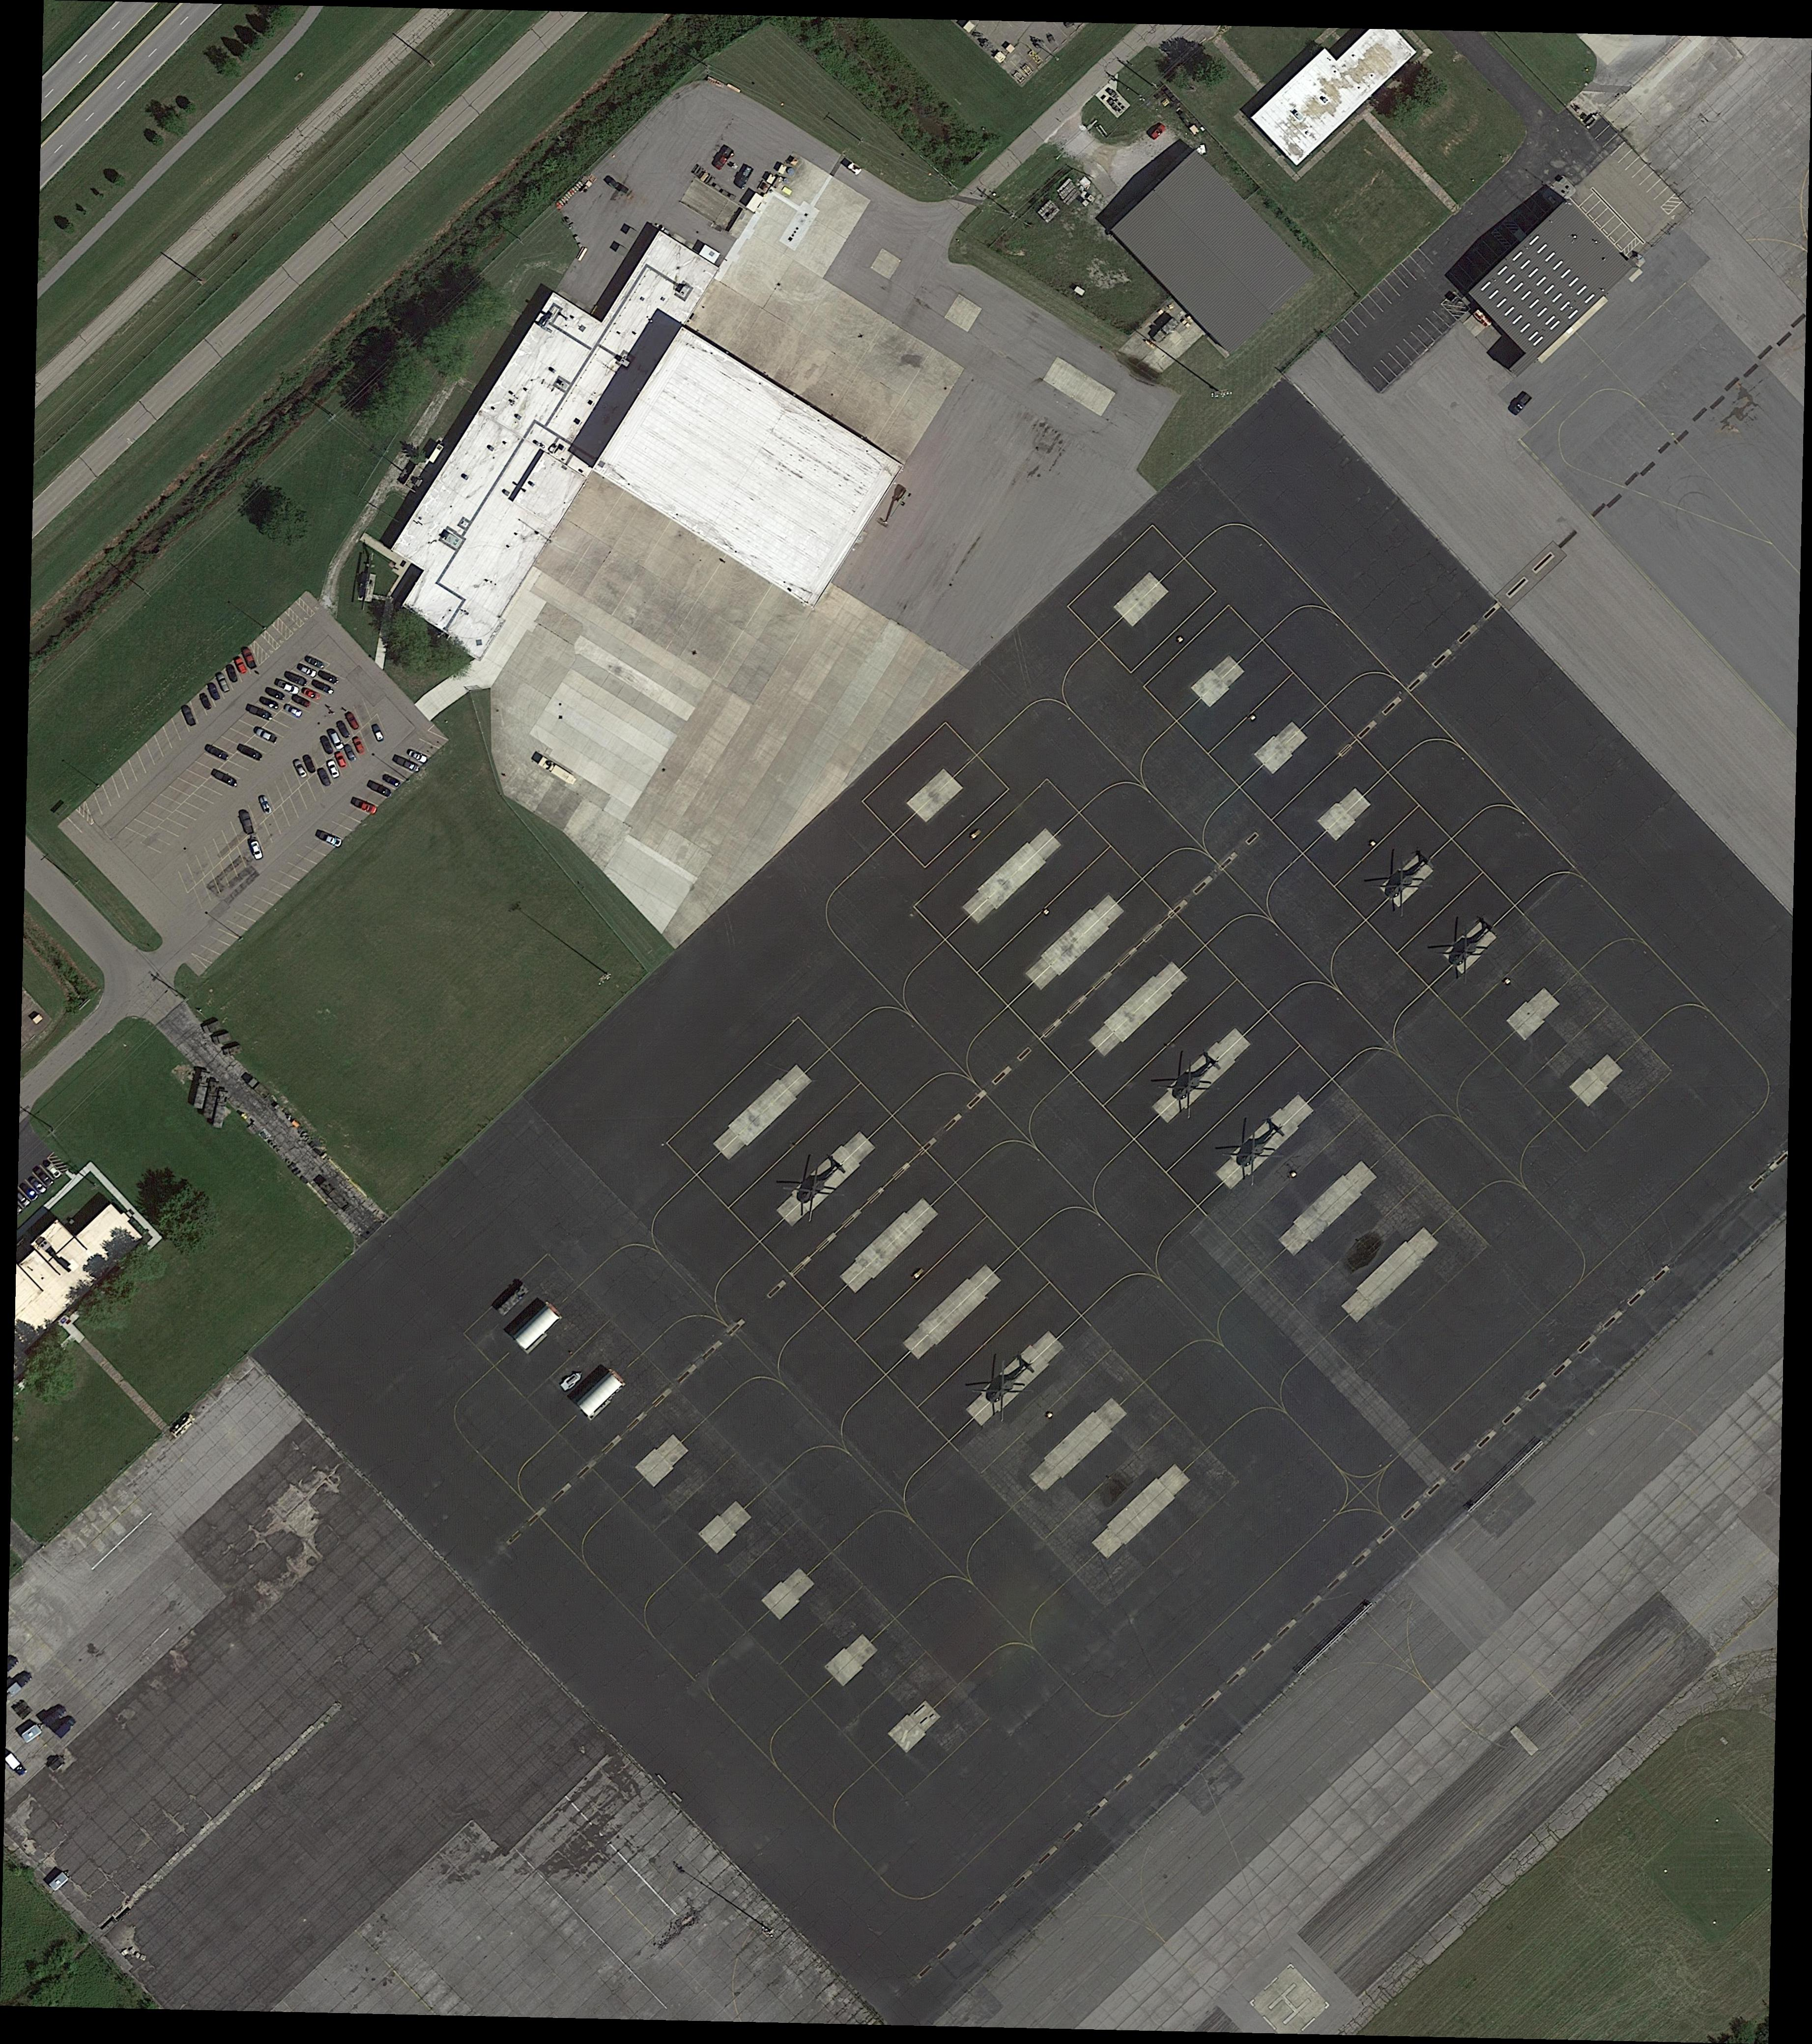ship: (42, 1705, 66, 1728), (54, 1717, 77, 1740)
